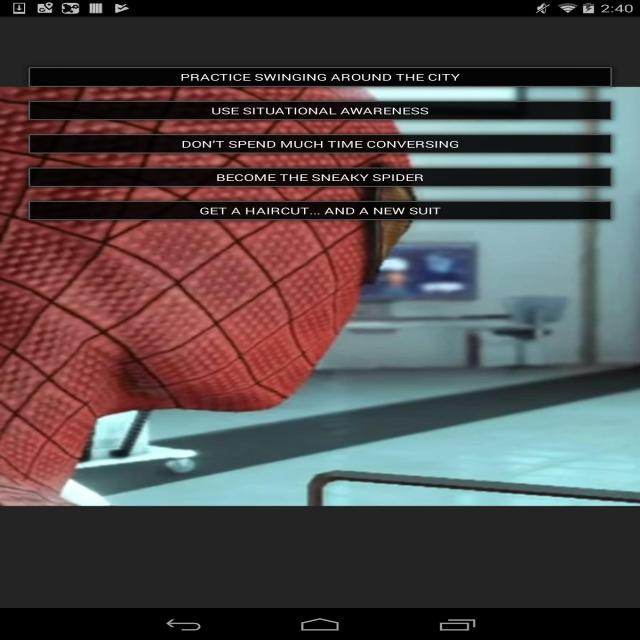button: (29, 67, 613, 85), (32, 168, 610, 186), (31, 135, 610, 152), (32, 104, 614, 120), (31, 204, 612, 218)
image: (0, 87, 640, 506)
